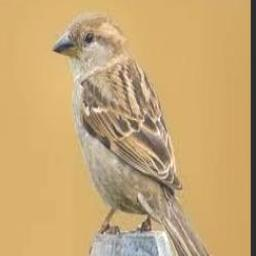Sparrow: (52, 12, 215, 256)
